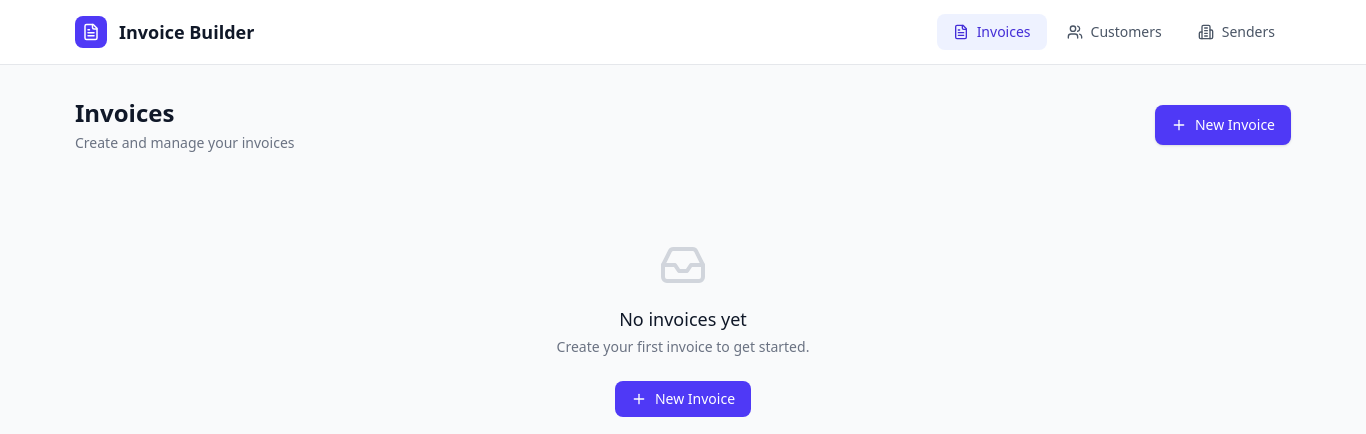
Navigation › navigates between tabs
Click the link "Customers": (1115, 32) [1067,22,1162,41]
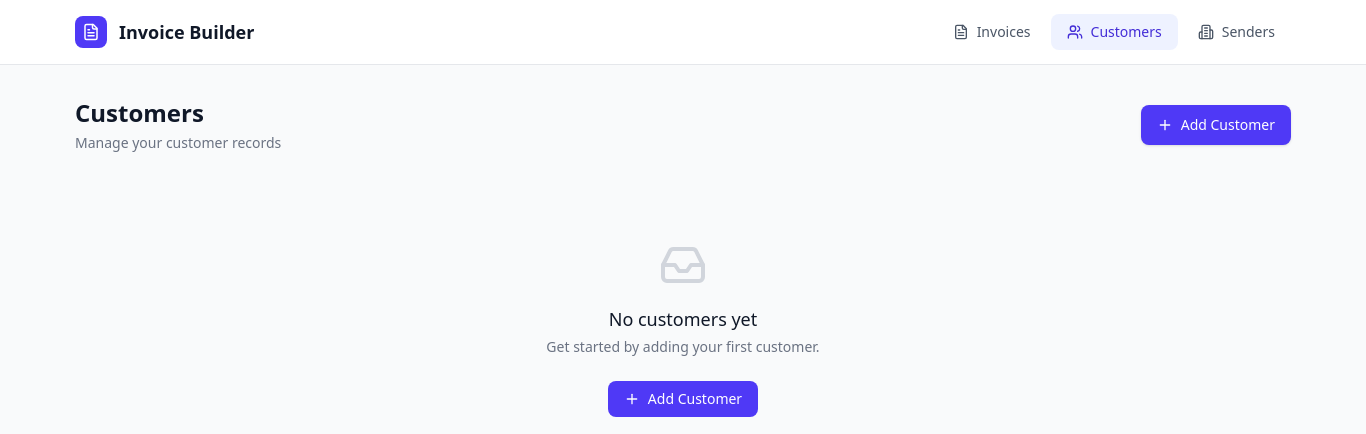
Result: the heading "Customers" is shown at [75,96,204,129]
Click the link "Senders": (1237, 32) [1198,22,1275,41]
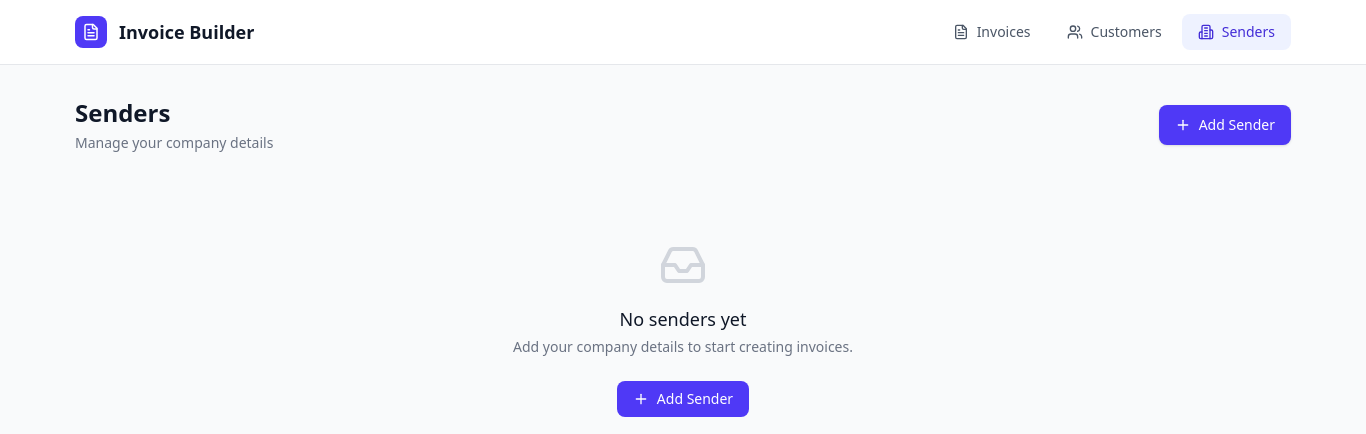
Result: the heading "Senders" is shown at [75,96,170,129]
Click the link "Invoices": (992, 32) [953,22,1031,41]
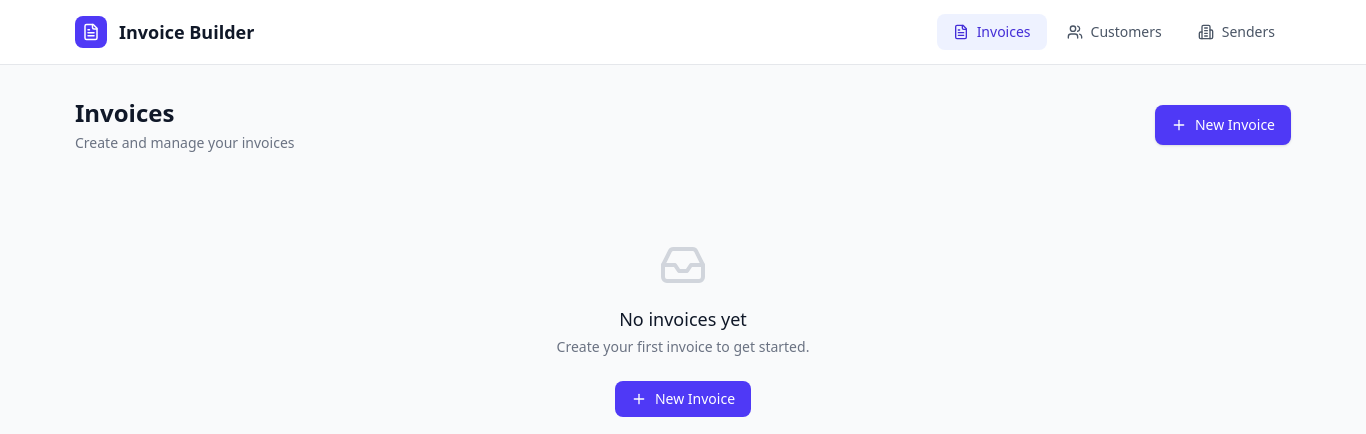
Result: the heading "Invoices" is shown at [75,96,174,129]
